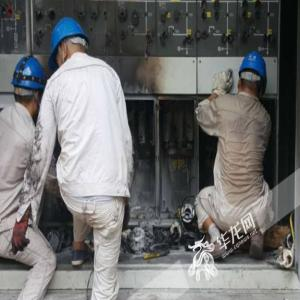blue: (49, 16, 88, 77), (12, 57, 47, 115), (236, 48, 270, 102)
